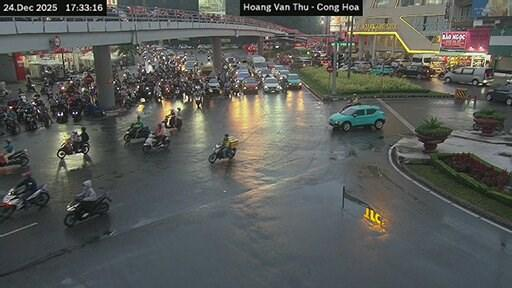motorbike: (0, 184, 48, 216), (64, 193, 111, 225), (141, 133, 169, 152), (57, 142, 89, 157), (0, 149, 28, 166), (208, 145, 236, 162), (122, 126, 150, 142), (35, 108, 50, 126), (83, 104, 105, 116), (6, 117, 19, 135), (25, 113, 38, 130), (341, 99, 359, 109), (56, 109, 67, 121), (70, 108, 80, 121), (26, 82, 34, 91), (0, 88, 7, 97), (495, 122, 502, 130), (473, 121, 479, 130), (505, 77, 511, 85)
